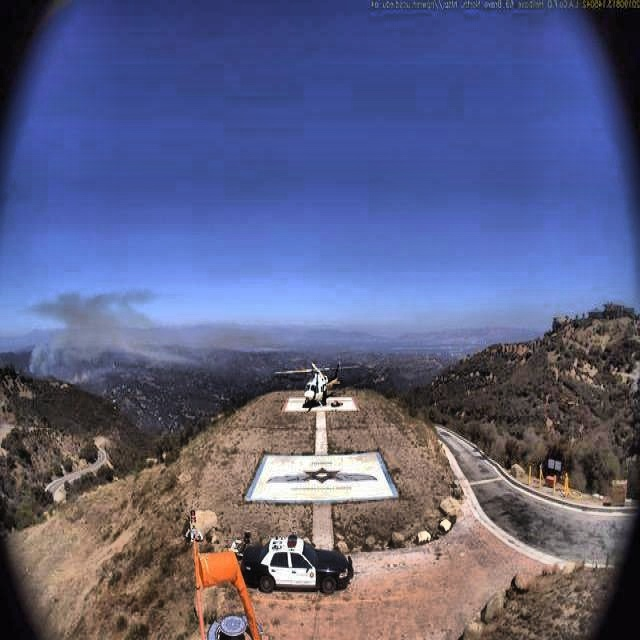smoke: (25, 285, 187, 384)
